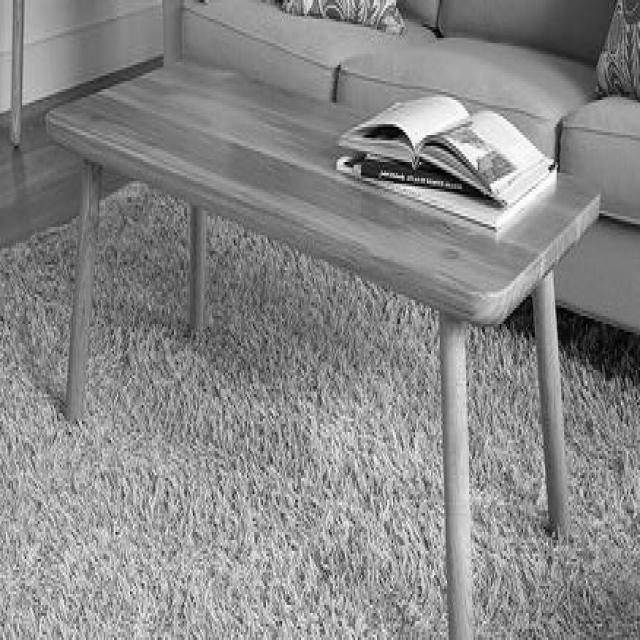table: (46, 64, 602, 626)
